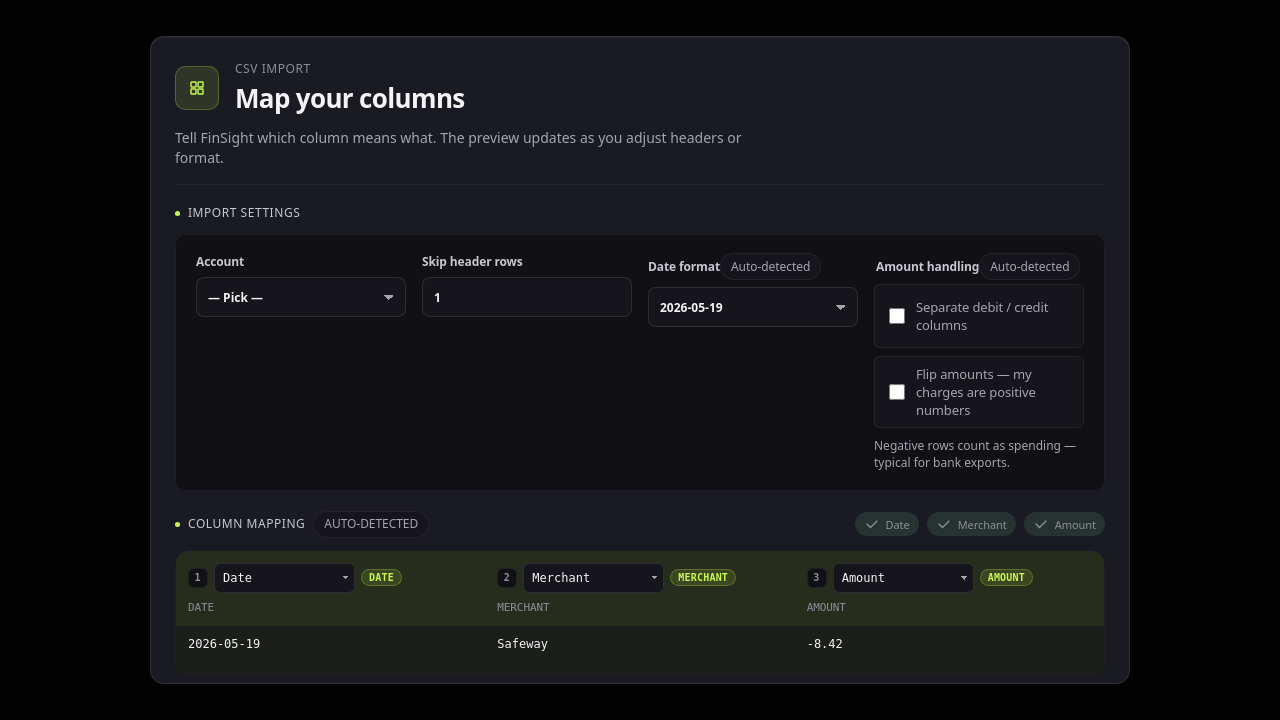
Scenario: ImportMappingDialog › shows the live prepared outcome in the footer once mapping is complete
The width and height of the screenshot is (1280, 720).
Expected: the text "Safeway" is shown, [485,627,795,675]
Select "Chase · Checking" in the dropdown labelled "Account" at x=301, y=297, box [196,277,406,317]
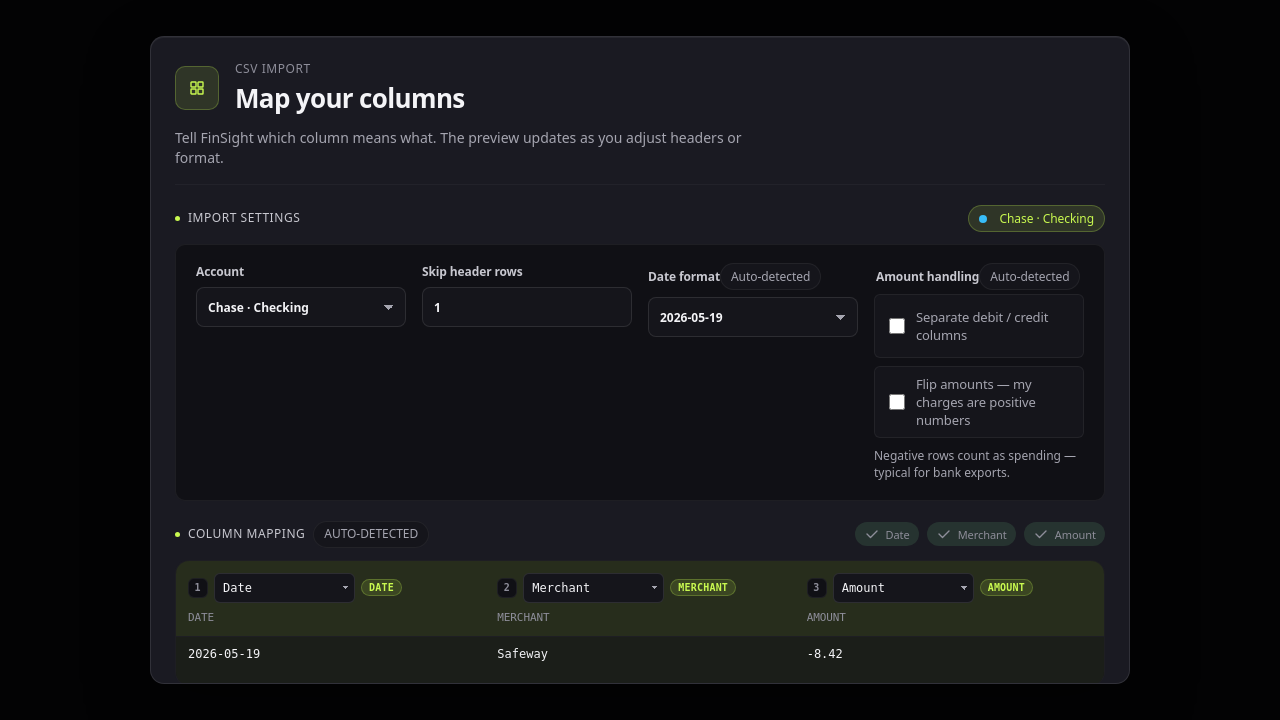
Select "Date" in the dropdown named "Column 1 role" at x=284, y=588, box [214,573,355,603]
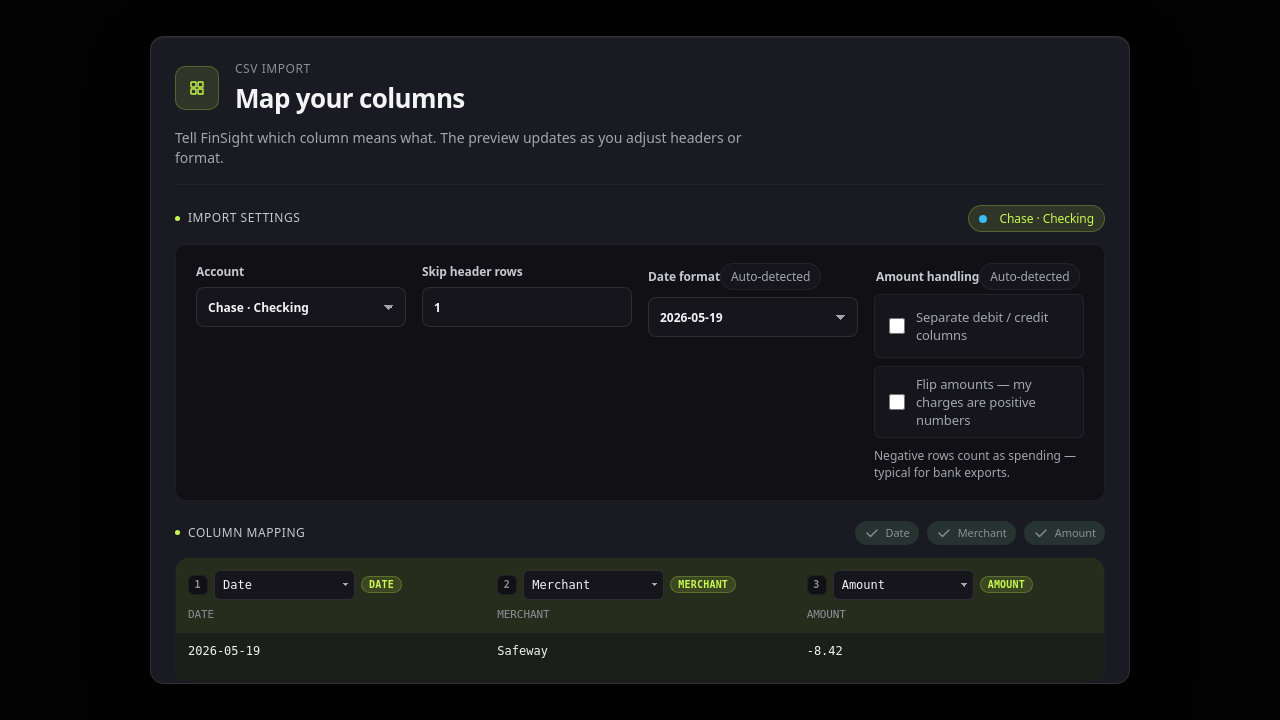
Select "Merchant" in the dropdown named "Column 2 role" at x=594, y=585, box [523,570,664,600]
Select "Amount" in the dropdown named "Column 3 role" at x=903, y=585, box [833,570,974,600]
(page scrolled)
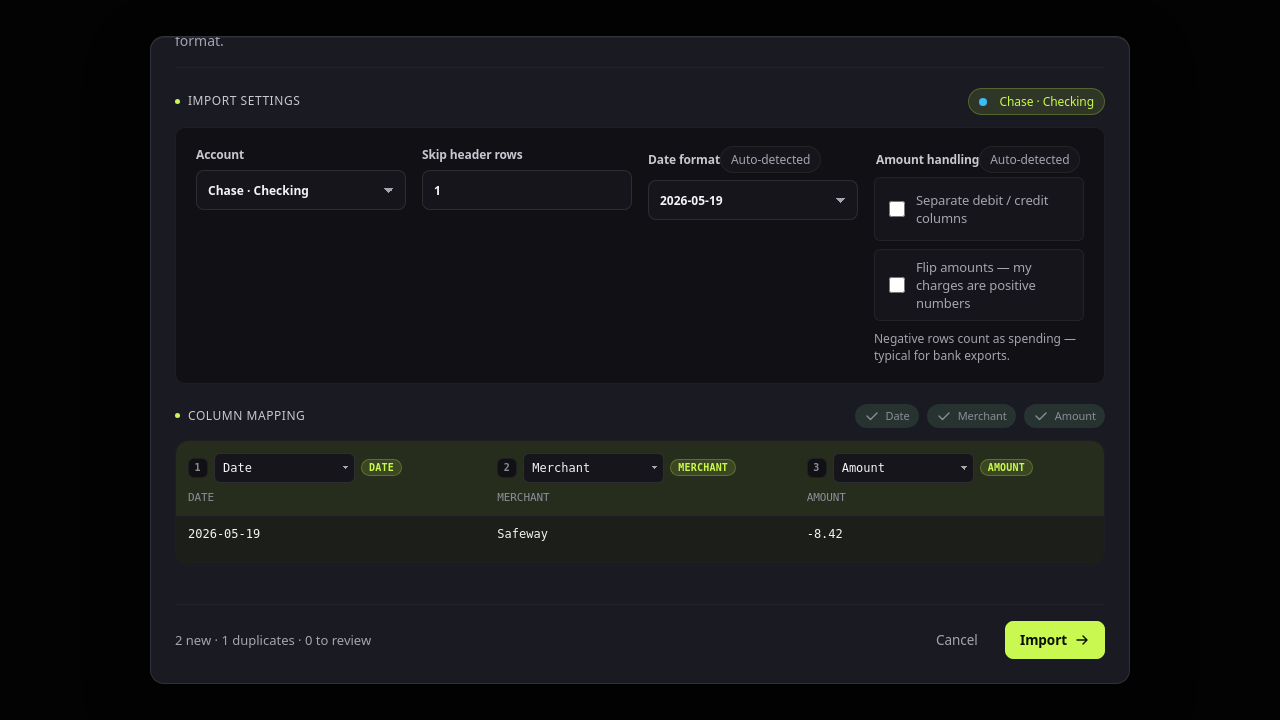
Expected: the button "Import" is enabled, [1005,622,1105,660]
Expected: the text "2 new · 1 duplicates · 0 to review" is shown, [175,632,371,650]
